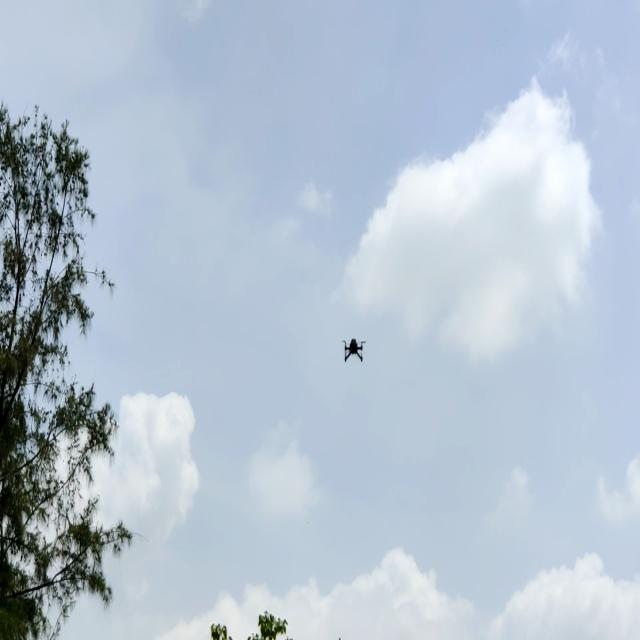drone: (337, 334, 368, 369)
